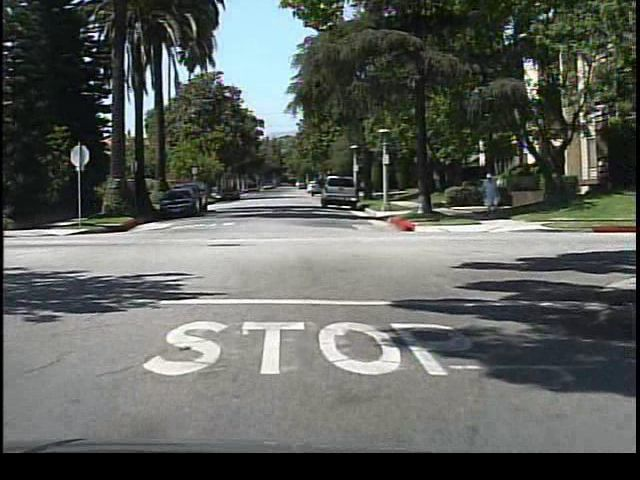person: (479, 169, 503, 220)
